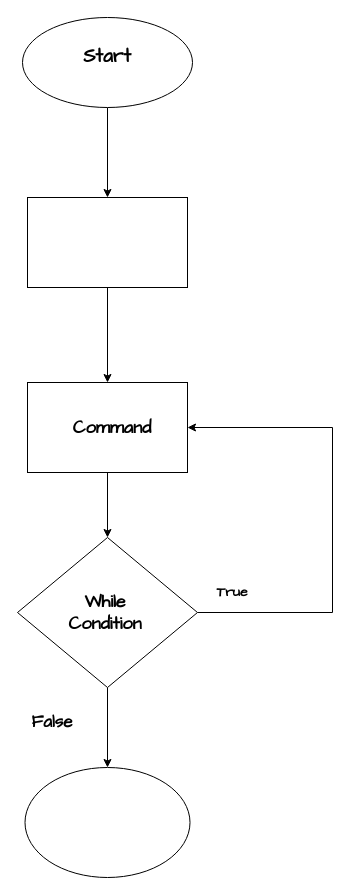
The diagram is 358 pixels wide and 895 high, and some of its shapes have lost their labels. Here are the shapes that lost their labels. From the top down, the box of each, then its label:
(26, 196, 188, 288): Do
(24, 766, 190, 878): End
